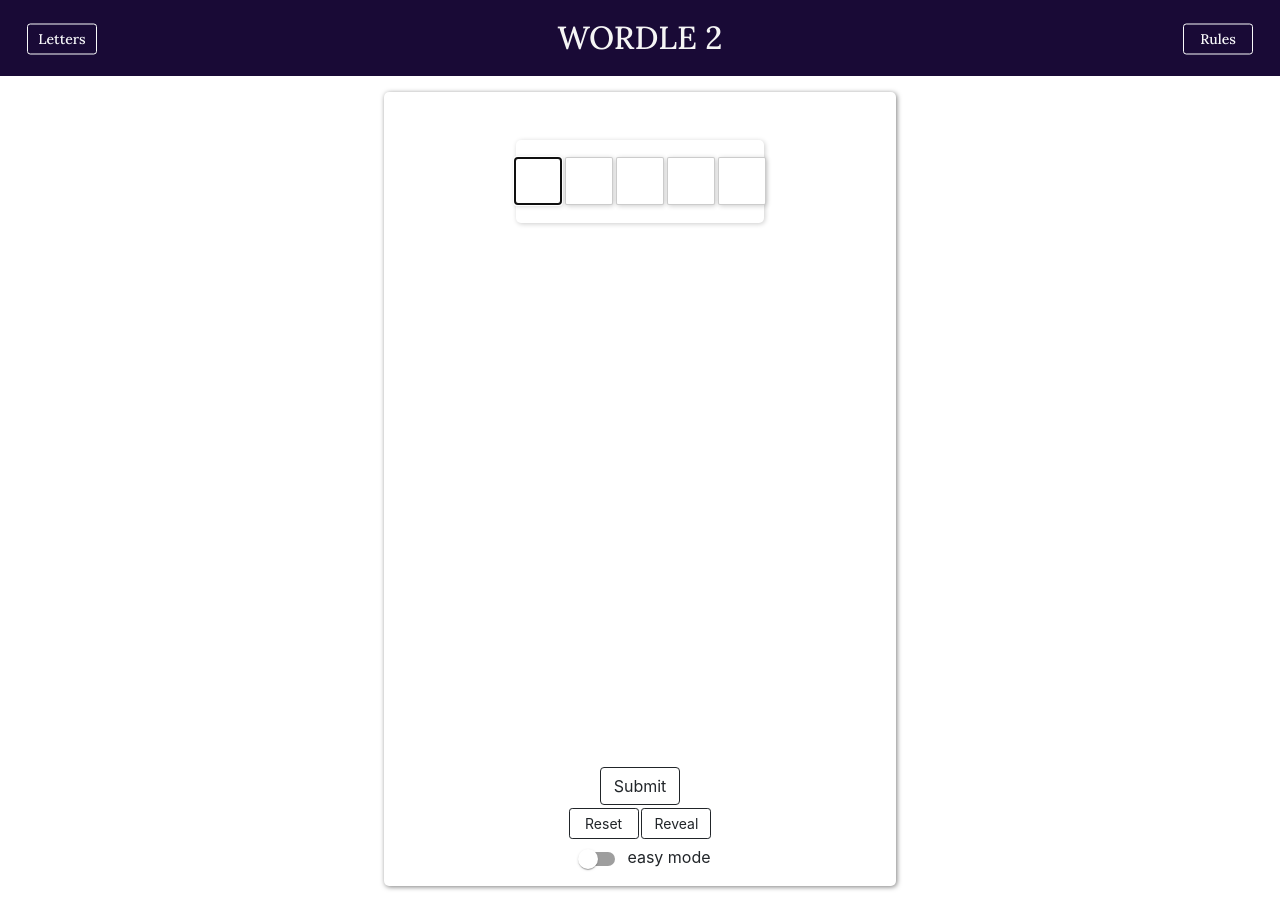
Test: reveals word when reveal button is clicked
The image size is (1280, 900).
Step 1. Click the button with test id "revealButton" → point(676, 823), box left=641, top=808, right=711, bottom=839
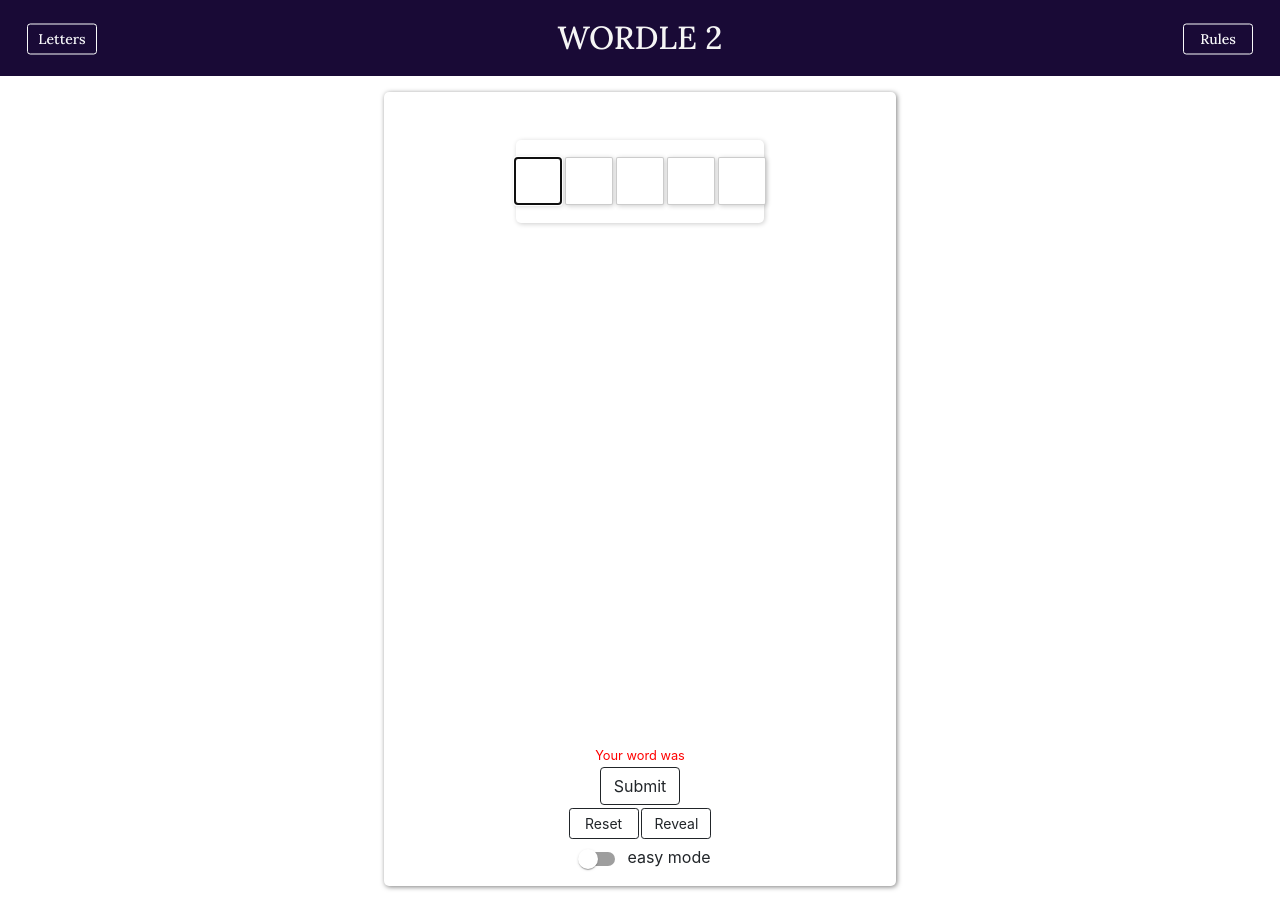
Result: the text "Your word was" is shown at left=595, top=748, right=685, bottom=763
